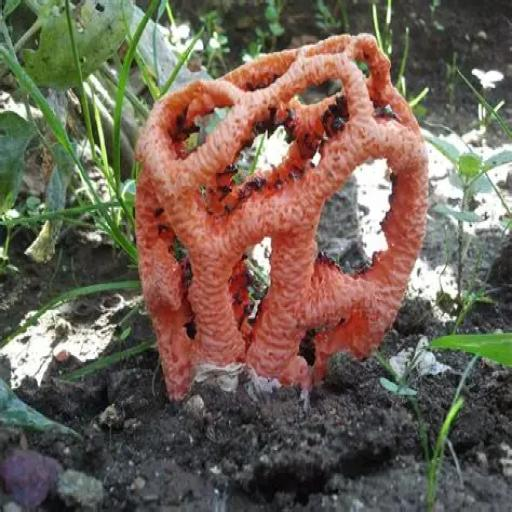Red Cage Fungus: (127, 27, 428, 405)
